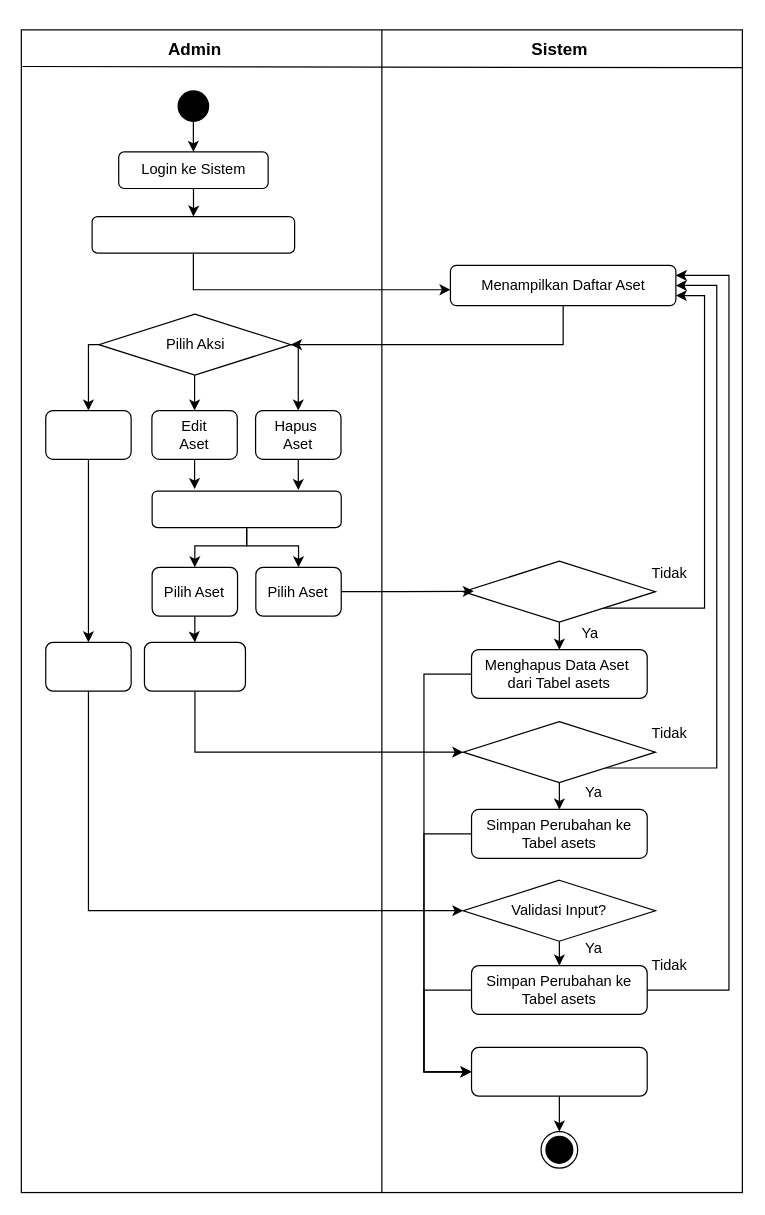
Image size: 765x1215. Some labels were removed from this diagram. Here are the shapes that lost their labels. From the top down, the box of each, then its label:
(91, 215, 295, 253): Memilih Menu Kelola Aset
(45, 409, 131, 459): Tambah Aset
(151, 490, 341, 528): Input Filter Pencarian
(462, 560, 655, 622): Konfirmasi Hapus?
(45, 641, 131, 691): Mengisi Data Aset
(143, 641, 245, 691): Memperbarui Data Aset
(462, 720, 655, 783): Validasi Perubahan?
(470, 1046, 647, 1096): Menampilkan Daftar Aset Terbaru
